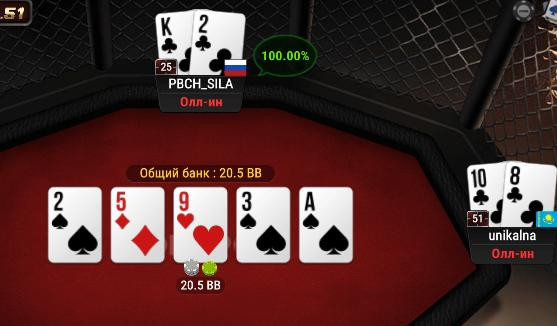10c: (468, 163, 504, 227)
2c: (193, 9, 244, 76)
2s: (49, 188, 101, 261)
3s: (237, 188, 289, 262)
5d: (112, 188, 163, 262)
8c: (504, 160, 556, 227)
9h: (173, 187, 227, 262)
As: (299, 187, 353, 262)
Kc: (155, 12, 192, 74)
